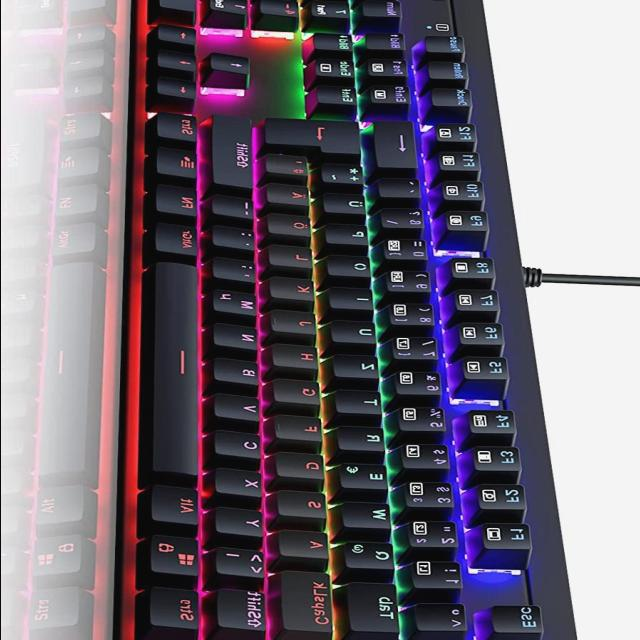0: (383, 239, 431, 263)
1: (412, 562, 466, 591)
2: (409, 521, 461, 550)
3: (406, 482, 456, 510)
4: (401, 445, 453, 471)
5: (397, 408, 449, 434)
6: (395, 372, 445, 398)
7: (392, 338, 441, 362)
8: (389, 304, 438, 328)
9: (385, 271, 434, 295)
a: (282, 532, 334, 562)
accent: (380, 180, 424, 201)
ae: (269, 186, 313, 208)
alt-left: (154, 487, 204, 527)
altgr-right: (157, 225, 203, 259)
b: (216, 360, 264, 388)
c: (217, 431, 266, 461)
caret: (417, 604, 471, 634)
comma: (215, 259, 260, 285)
d: (279, 454, 329, 482)
del: (377, 123, 421, 171)
e: (341, 465, 391, 492)
enter: (267, 121, 367, 158)
f: (278, 417, 327, 443)
g: (276, 381, 324, 407)
h: (275, 346, 322, 371)
hash: (268, 156, 312, 180)
i: (331, 289, 377, 312)
j: (273, 313, 320, 337)
k: (272, 279, 318, 303)
keyboard: (108, 0, 590, 640)
l: (271, 247, 317, 271)
less: (217, 549, 269, 580)
m: (215, 292, 261, 318)
minus: (214, 197, 257, 222)
n: (216, 325, 262, 351)
o: (329, 256, 375, 280)
oe: (270, 215, 315, 239)
p: (327, 226, 371, 248)
plus: (322, 166, 366, 187)
point: (215, 227, 259, 252)
q: (346, 543, 398, 573)
r: (340, 427, 388, 453)
s: (279, 492, 331, 521)
shift-left: (218, 589, 270, 631)
shift-lock: (283, 571, 337, 635)
shift-right: (214, 117, 258, 191)
space: (152, 262, 206, 480)
ss: (381, 210, 427, 232)
strg-left: (150, 588, 204, 632)
strg-right: (158, 114, 201, 144)
t: (337, 392, 385, 416)
tab: (350, 583, 402, 635)
u: (333, 322, 379, 346)
ue: (324, 195, 369, 217)
v: (216, 395, 265, 423)
w: (343, 504, 395, 530)
x: (219, 470, 267, 499)
y: (218, 509, 268, 539)
z: (335, 357, 382, 381)
